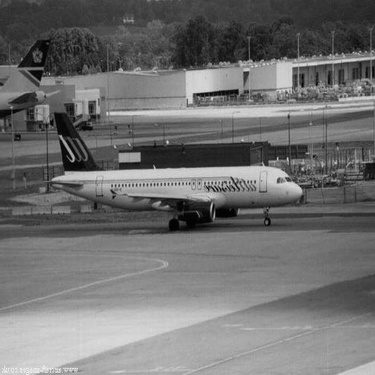airplane: (36, 94, 317, 241), (1, 32, 62, 131)
